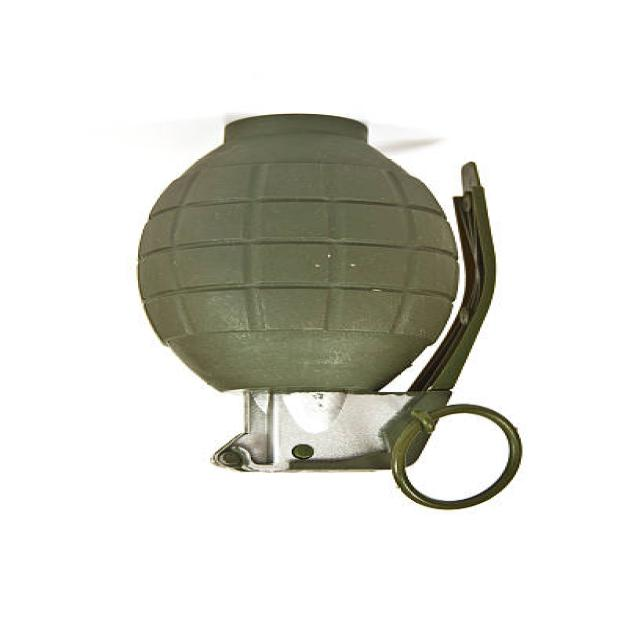grenade: (123, 108, 555, 522)
